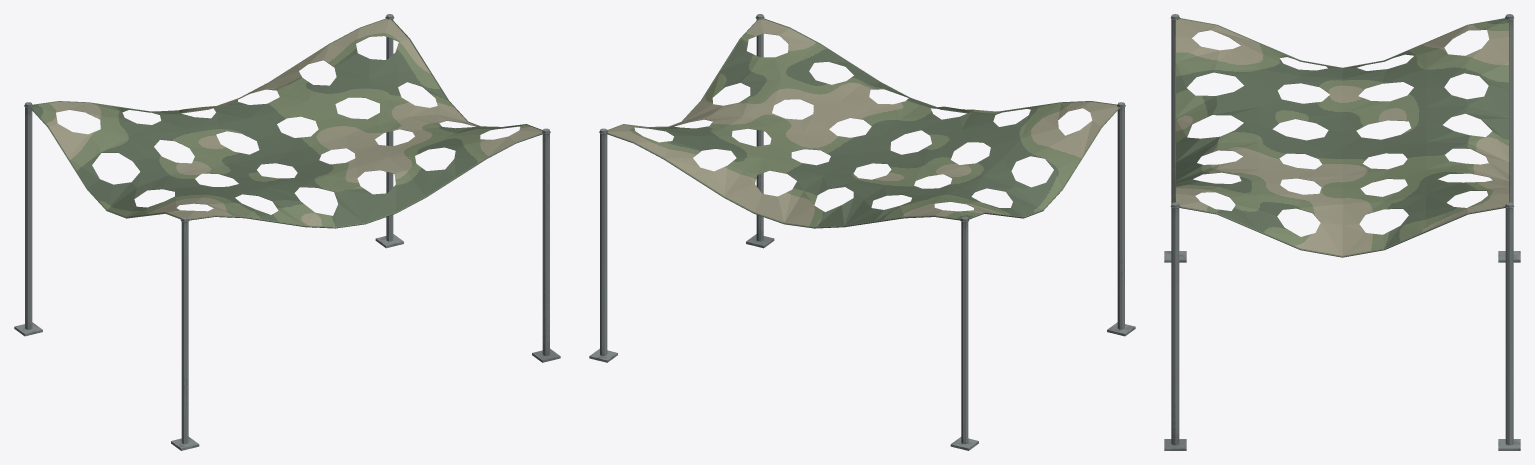
The model's file is bunker_camouflage_net_draped.glb.
3 renders of one model, left to right at view 1: azimuth 30°, elevation 25°; view 2: azimuth 150°, elevation 25°; view 3: azimuth 270°, elevation 25°, orthographic. The views are drawn at different scales.
Visible parts, largest first — view 1: CamouflageNet; view 2: CamouflageNet; view 3: CamouflageNet.
Boxes of the visible parts, <box> form: CamouflageNet: <box>14,14,560,450</box>; CamouflageNet: <box>589,14,1135,450</box>; CamouflageNet: <box>1164,14,1520,450</box>.
Size of the model in its own units: 4.2 by 2.4 by 3.2.
1 material, 1 textured.
